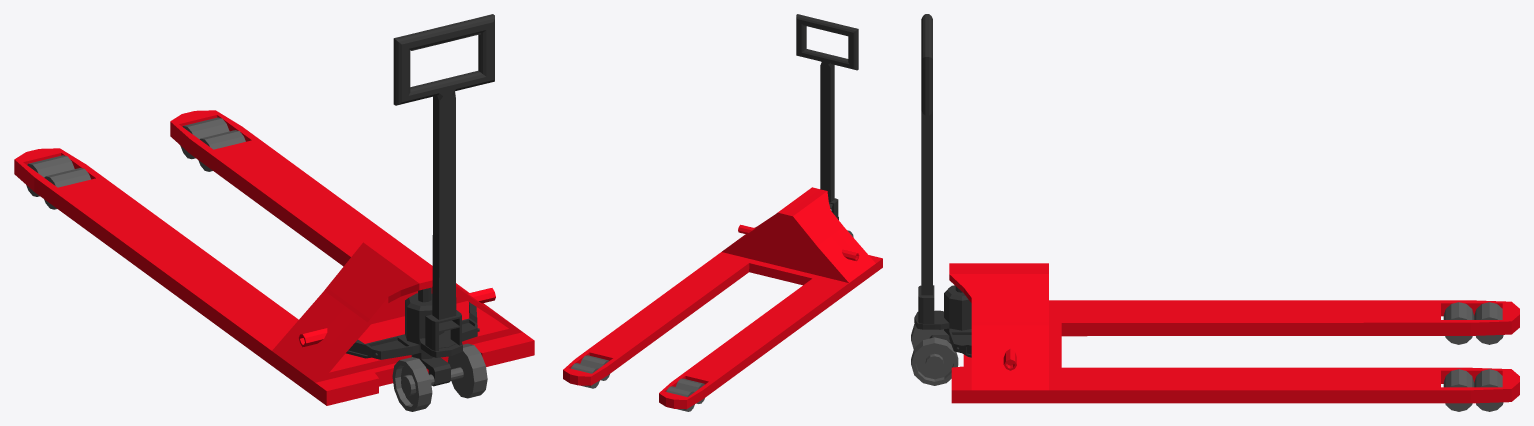
The model's file is JackLift.fbx.
3 renders of one model, left to right at view 1: azimuth 30°, elevation 25°; view 2: azimuth 150°, elevation 25°; view 3: azimuth 270°, elevation 25°, orthographic. The views are drawn at different scales.
Parts seen in each view (by area): view 1: Body, Jack, Wheel2, Wheel, Join; view 2: Body, Jack, Wheel; view 3: Body, Jack, Wheel, Wheel2.
Boxes of the visible parts, x1,y1,x2,y2 form: Body: [14, 110, 534, 405]; Jack: [346, 14, 494, 359]; Wheel2: [392, 343, 487, 411]; Wheel: [26, 117, 245, 209]; Join: [411, 355, 450, 386]; Body: [563, 187, 882, 409]; Jack: [796, 14, 858, 219]; Wheel: [571, 355, 704, 411]; Body: [949, 263, 1519, 403]; Jack: [914, 14, 971, 357]; Wheel: [1443, 302, 1503, 411]; Wheel2: [911, 324, 958, 385].
Size of the model in its own units: 47.56 by 82.74 by 136.
